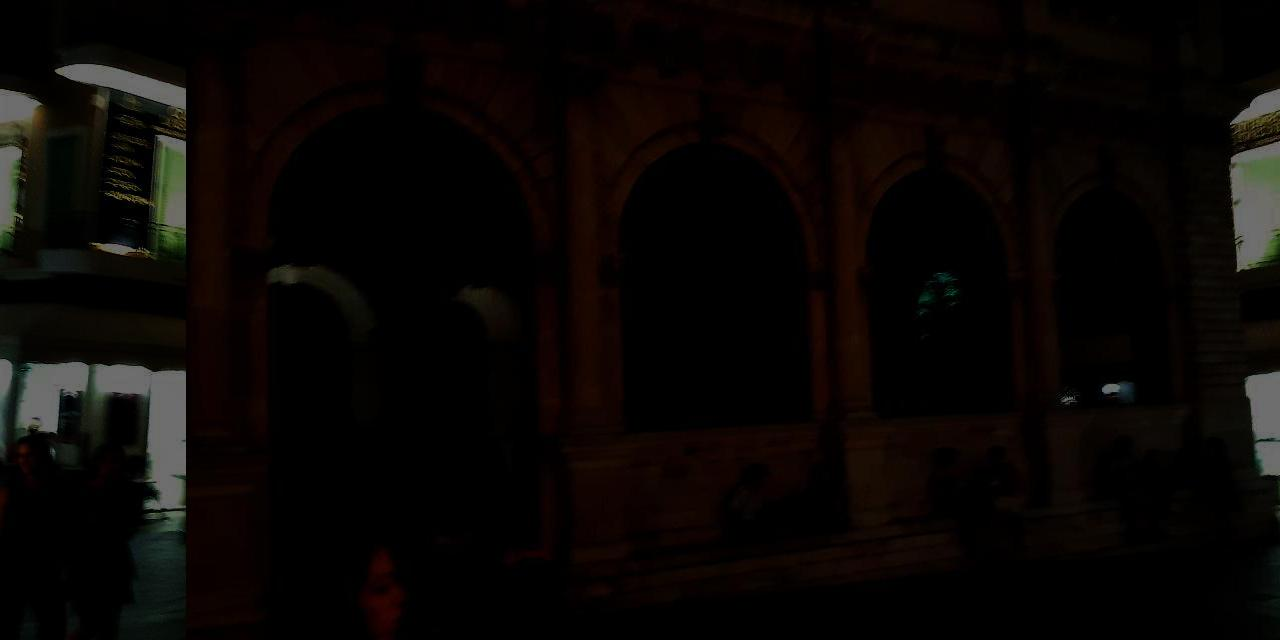Loggia: (187, 1, 1280, 640)
